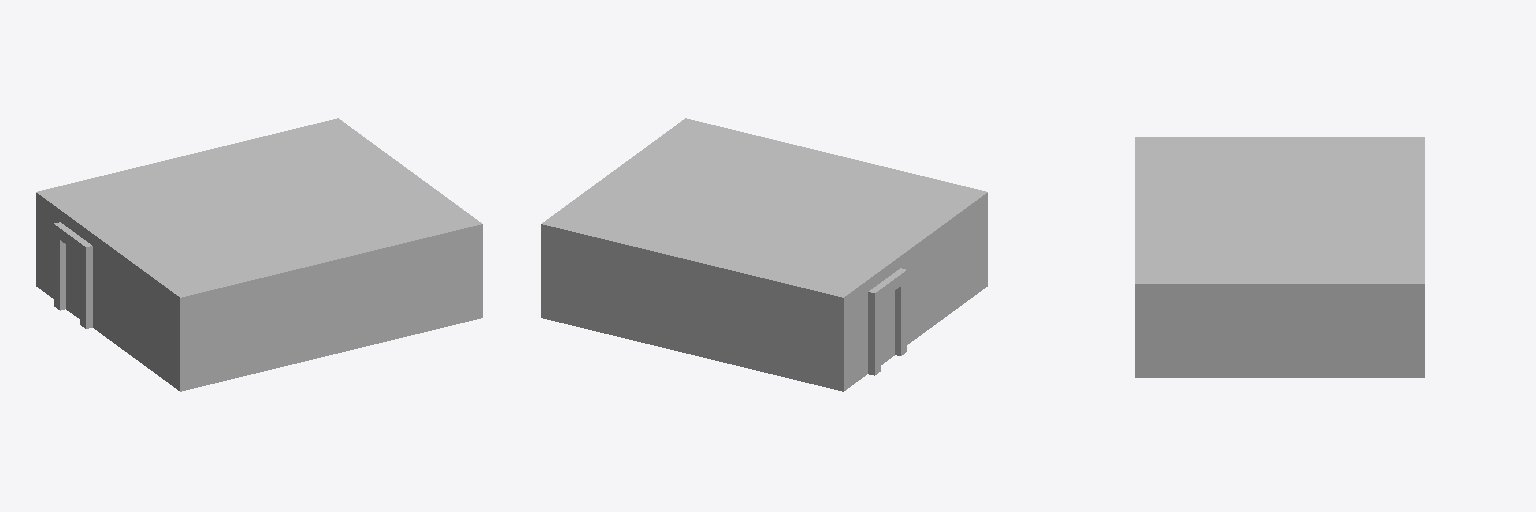
The model's file is Room.obj.
3 views of the same model, side by side, from view 1: azimuth 30°, elevation 25°; view 2: azimuth 150°, elevation 25°; view 3: azimuth 270°, elevation 25° (orthographic).
Visible parts, largest first — view 1: Cube.003_Cube.004, Cube_Cube.001, Cube.002_Cube.003; view 2: Cube.003_Cube.004, Cube_Cube.001, Cube.002_Cube.003; view 3: Cube.003_Cube.004.
Boxes of the visible parts, box(x1,y1,x2,y2) form: Cube.003_Cube.004: box(36, 118, 482, 391); Cube_Cube.001: box(54, 222, 92, 328); Cube.002_Cube.003: box(66, 245, 79, 318); Cube.003_Cube.004: box(541, 118, 987, 391); Cube_Cube.001: box(868, 268, 906, 375); Cube.002_Cube.003: box(881, 291, 894, 364); Cube.003_Cube.004: box(1135, 137, 1424, 377).
Bounding box in the file's own units: 138 × 40.12 × 111.